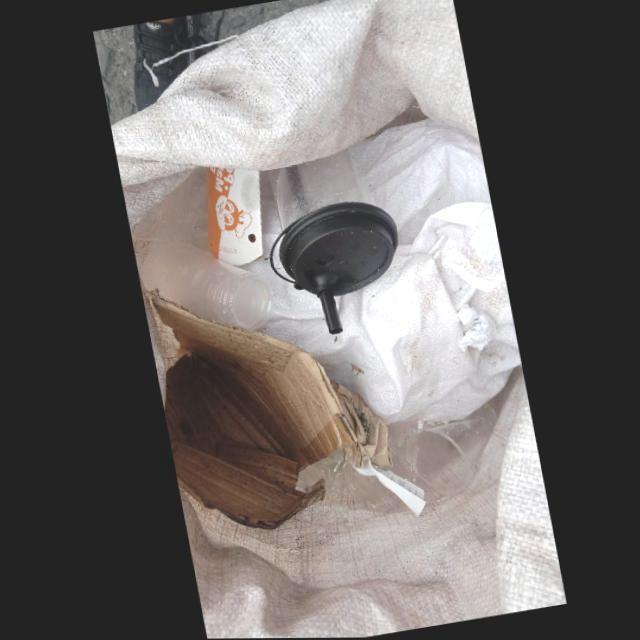cardboard: (148, 296, 350, 530), (201, 165, 261, 267)
plastic_container: (267, 149, 396, 297), (133, 239, 272, 330), (411, 407, 494, 490), (128, 166, 206, 241)
